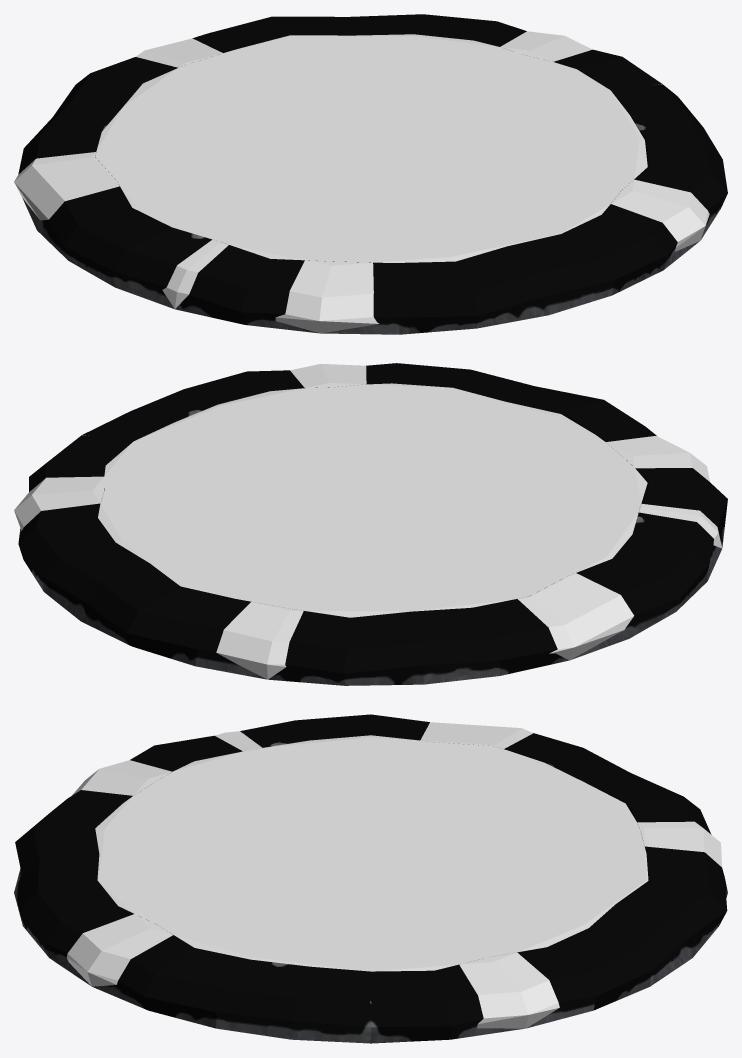
File: vent_grate.webp.glb
The picture shows the model from 3 angles, top to bottom: view 1: azimuth 30°, elevation 25°; view 2: azimuth 150°, elevation 25°; view 3: azimuth 270°, elevation 25°; orthographic projection.
Visible parts, largest first — view 1: COL, LOD0_body; view 2: COL, LOD0_body; view 3: COL, LOD0_body.
Part boxes in pixels (x1=…): COL: x1=14, y1=31, x2=709, y2=333; LOD0_body: x1=18, y1=14, x2=727, y2=334; COL: x1=14, y1=364, x2=722, y2=679; LOD0_body: x1=18, y1=363, x2=727, y2=685; COL: x1=66, y1=722, x2=721, y2=1028; LOD0_body: x1=14, y1=714, x2=727, y2=1043.
Size of the model in its own units: 2.02 by 0.1199 by 2.
Materials: 1 (1 with a texture image).
